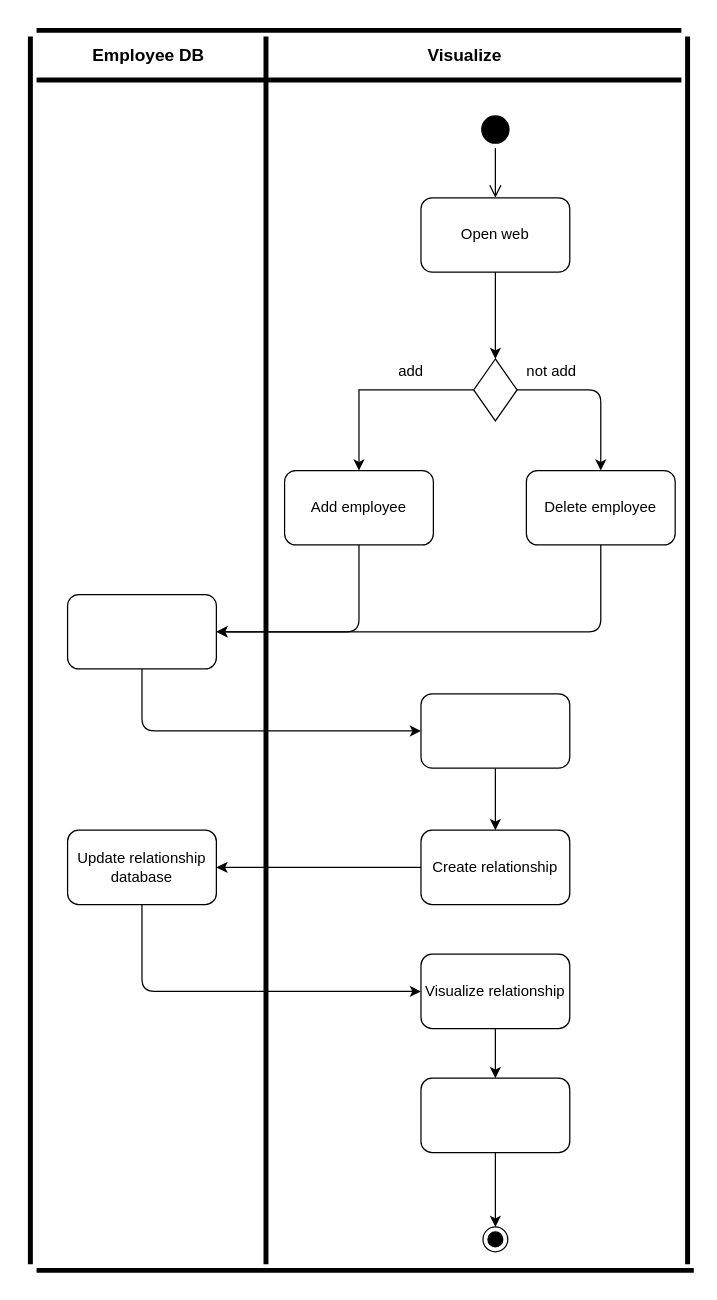
The diagram is 717 pixels wide and 1300 high, and some of its shapes have lost their labels. Here are the shapes that lost their labels. From the top down, the centre of each, then its label:
At (x=141, y=631): "Update employee database".
At (x=495, y=730): "Visualize employee".
At (x=495, y=1115): "Visualize name".
